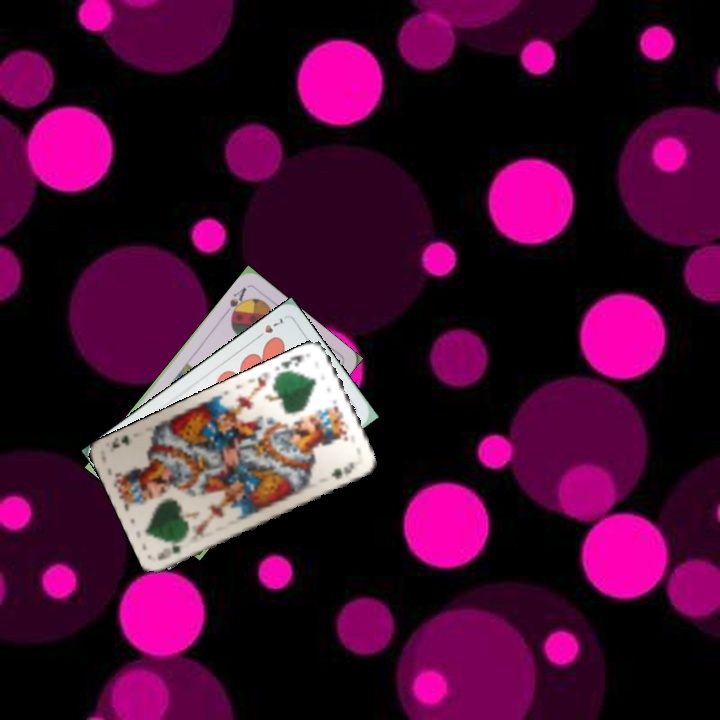GK: (276, 351, 306, 377), (154, 541, 184, 563)
H7: (251, 314, 286, 342)
SA: (220, 283, 249, 321)
